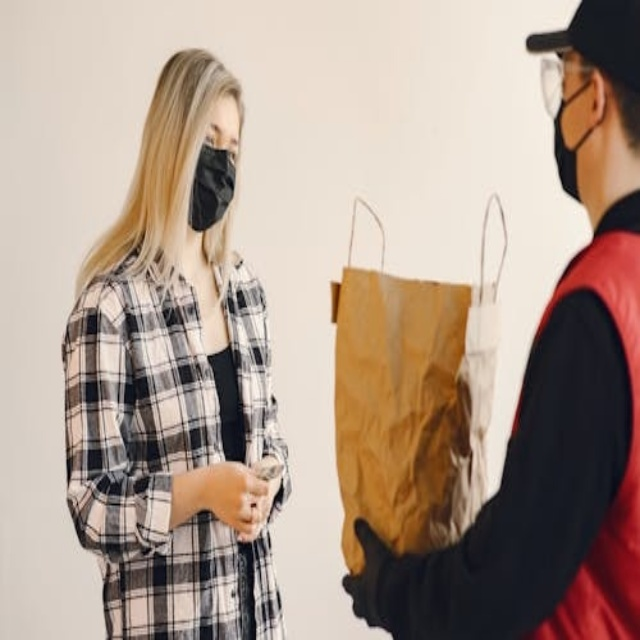Gafas: (539, 55, 597, 119)
Guantes: (340, 516, 410, 635)
Mascara: (187, 140, 235, 232), (553, 97, 582, 202)
Sin_gafas: (202, 123, 246, 161)
Sin_guantes: (191, 459, 273, 538)
